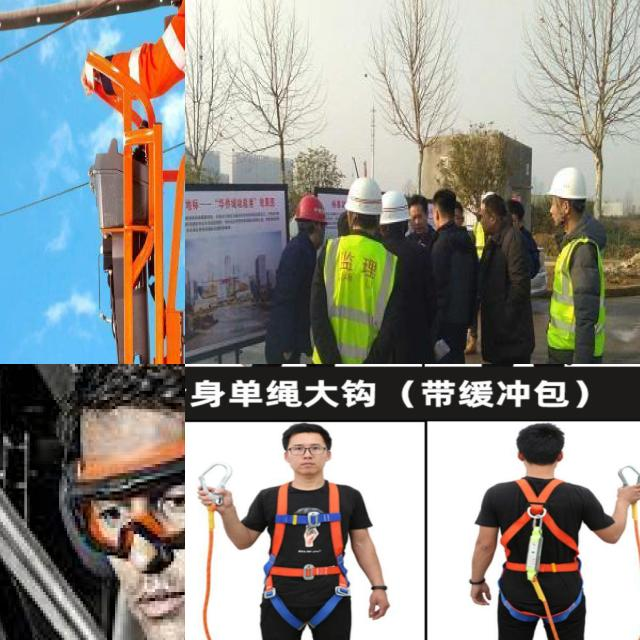Harness: (252, 481, 348, 624), (498, 470, 586, 625)
head_helmet: (334, 166, 384, 217), (370, 176, 413, 228), (546, 160, 589, 210), (294, 182, 326, 226)
head_nohelmet: (437, 186, 458, 226), (411, 190, 428, 213)
person: (512, 139, 616, 364), (308, 160, 420, 364), (417, 185, 487, 364), (472, 194, 538, 364), (263, 198, 321, 364)
vest: (312, 229, 394, 364), (534, 228, 611, 363)
